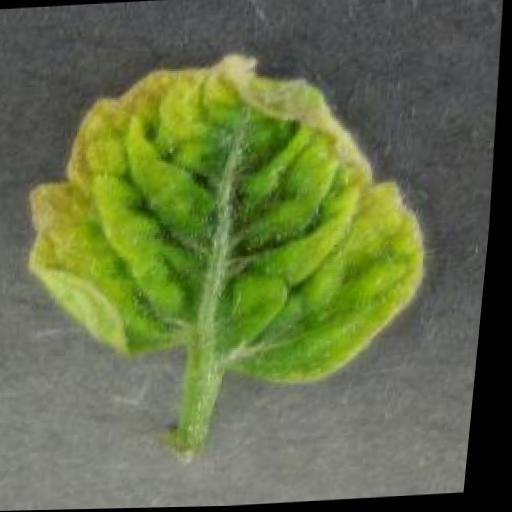Yellow Leaf Curl Virus: (11, 42, 450, 403)
